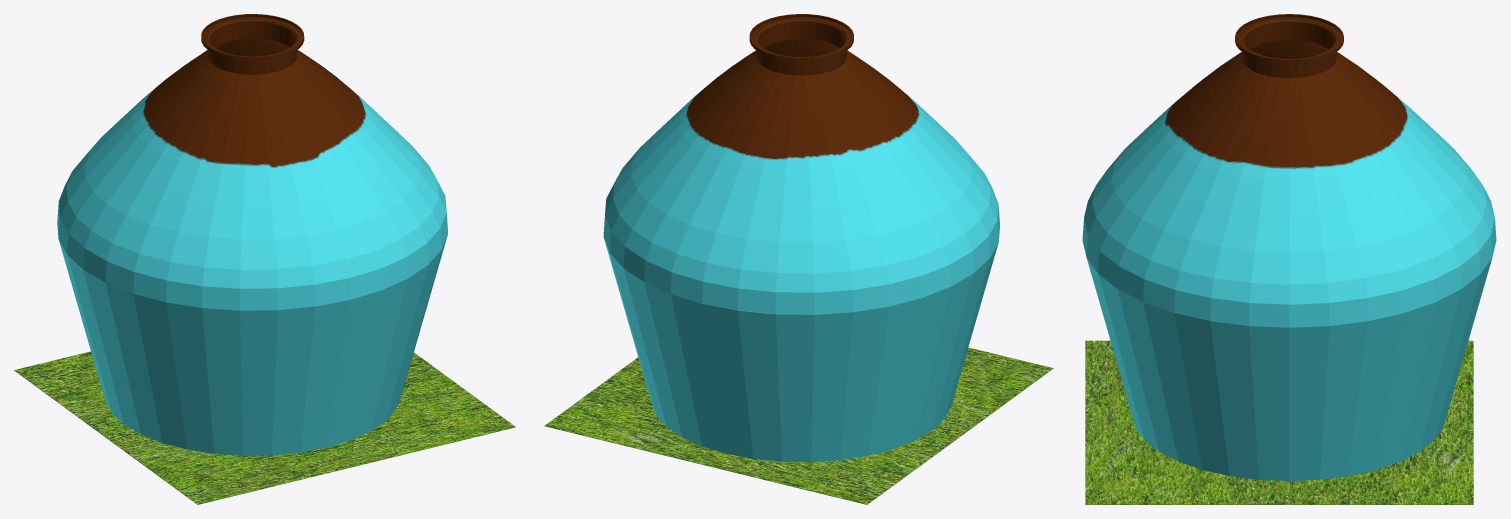
Rendered from matka_4.obj.
3 views of the same model, side by side, from view 1: azimuth 30°, elevation 25°; view 2: azimuth 150°, elevation 25°; view 3: azimuth 270°, elevation 25° (orthographic). The views are drawn at different scales.
Parts seen in each view (by area): view 1: Circle, Cube; view 2: Circle, Cube; view 3: Circle, Cube.
Boxes of the visible parts, bbox=[...] form: Circle: bbox=[57, 14, 448, 455]; Cube: bbox=[14, 351, 515, 504]; Circle: bbox=[603, 14, 999, 462]; Cube: bbox=[544, 347, 1053, 504]; Circle: bbox=[1082, 14, 1496, 480]; Cube: bbox=[1085, 340, 1473, 504].
Bounding box in the file's own units: 0.8469 × 0.8622 × 0.8469.
Materials: 2 (2 with a texture image).
